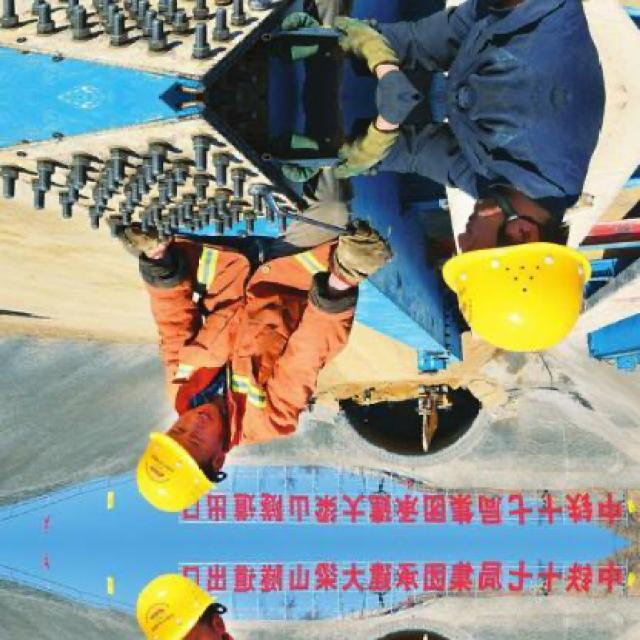con casco: (440, 245, 595, 364), (103, 397, 272, 504)
